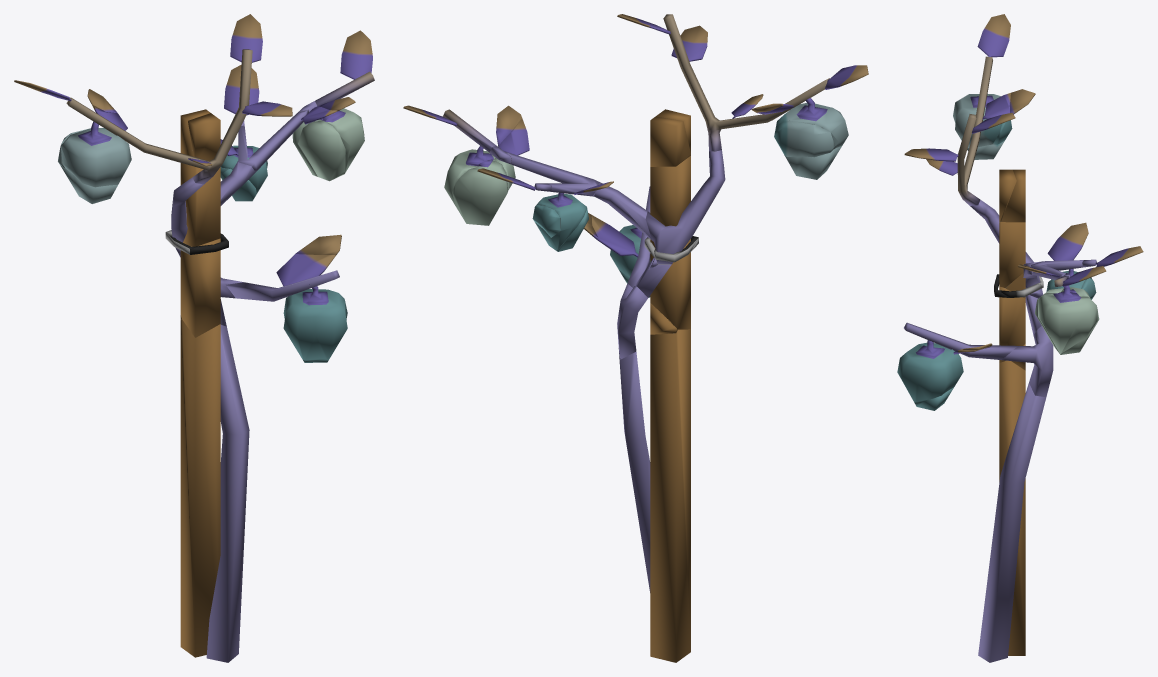
Rendered from PepperPlant_02 Fracture.fbx.
3 views of the same model, side by side, from view 1: azimuth 30°, elevation 25°; view 2: azimuth 150°, elevation 25°; view 3: azimuth 270°, elevation 25° (orthographic). The views are drawn at different scales.
Parts seen in each view (by area): view 1: PepperPlant_02_cell.001, PepperPlant_02_cell.004, PepperPlant_02_cell.007, PepperPlant_02_cell.003, PepperPlant_02_cell.006, PepperPlant_02_cell, PepperPlant_02_cell.002, PepperPlant_02_cell.008, PepperPlant_02_cell.005; view 2: PepperPlant_02_cell.001, PepperPlant_02_cell.007, PepperPlant_02_cell.006, PepperPlant_02_cell.004, PepperPlant_02_cell.003, PepperPlant_02_cell.008, PepperPlant_02_cell.005, PepperPlant_02_cell, PepperPlant_02_cell.009, PepperPlant_02_cell.002; view 3: PepperPlant_02_cell.001, PepperPlant_02_cell.007, PepperPlant_02_cell.004, PepperPlant_02_cell, PepperPlant_02_cell.006, PepperPlant_02_cell.003, PepperPlant_02_cell.009, PepperPlant_02_cell.005, PepperPlant_02_cell.008, PepperPlant_02_cell.002.
Part boxes in pixels (bbox=[...]): PepperPlant_02_cell.001: bbox=[180, 319, 329, 662]; PepperPlant_02_cell.004: bbox=[175, 238, 347, 360]; PepperPlant_02_cell.007: bbox=[14, 14, 292, 187]; PepperPlant_02_cell.003: bbox=[220, 106, 345, 193]; PepperPlant_02_cell.006: bbox=[61, 163, 220, 249]; PepperPlant_02_cell: bbox=[315, 30, 374, 172]; PepperPlant_02_cell.002: bbox=[220, 162, 341, 254]; PepperPlant_02_cell.008: bbox=[224, 64, 345, 176]; PepperPlant_02_cell.005: bbox=[58, 89, 210, 167]; PepperPlant_02_cell.001: bbox=[618, 270, 690, 662]; PepperPlant_02_cell.007: bbox=[617, 14, 868, 152]; PepperPlant_02_cell.006: bbox=[645, 146, 841, 264]; PepperPlant_02_cell.004: bbox=[591, 186, 698, 329]; PepperPlant_02_cell.003: bbox=[493, 118, 613, 250]; PepperPlant_02_cell.008: bbox=[452, 146, 560, 237]; PepperPlant_02_cell.005: bbox=[650, 103, 834, 166]; PepperPlant_02_cell: bbox=[403, 105, 521, 204]; PepperPlant_02_cell.009: bbox=[617, 283, 677, 359]; PepperPlant_02_cell.002: bbox=[556, 182, 657, 269]; PepperPlant_02_cell.001: bbox=[914, 360, 1046, 662]; PepperPlant_02_cell.007: bbox=[904, 14, 1016, 221]; PepperPlant_02_cell.004: bbox=[897, 276, 1041, 402]; PepperPlant_02_cell: bbox=[1018, 264, 1106, 353]; PepperPlant_02_cell.006: bbox=[967, 140, 1043, 288]; PepperPlant_02_cell.003: bbox=[1023, 222, 1088, 353]; PepperPlant_02_cell.009: bbox=[1002, 326, 1053, 397]; PepperPlant_02_cell.005: bbox=[992, 89, 1035, 222]; PepperPlant_02_cell.008: bbox=[1060, 246, 1143, 354]; PepperPlant_02_cell.002: bbox=[962, 261, 1043, 351].
Bounding box in the file's own units: 62.28 × 91.33 × 36.59.
